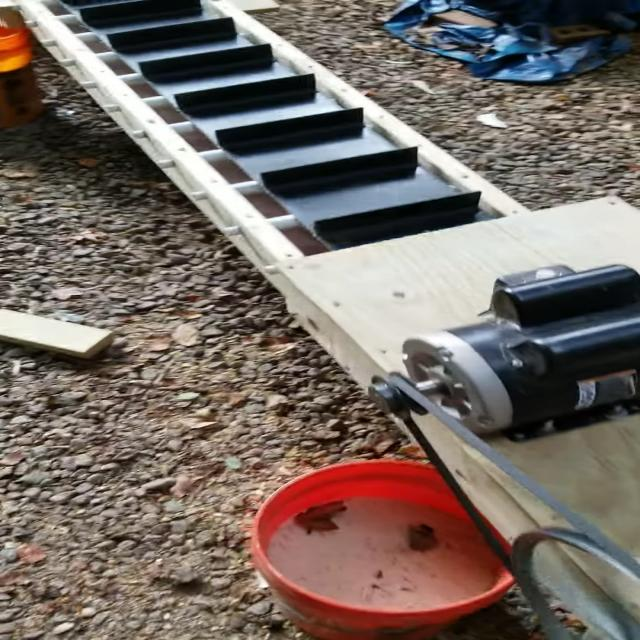Convoyeur: (16, 1, 640, 640)
